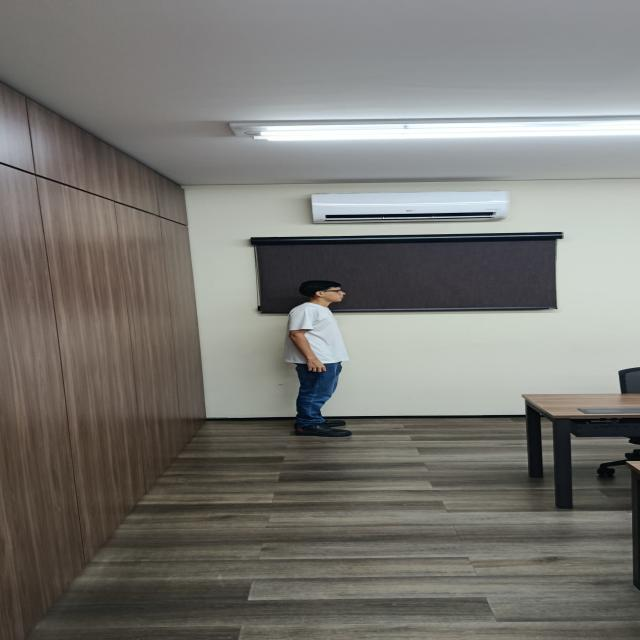oculos-epi: (323, 290, 343, 294)
